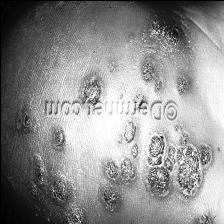Toxin: (146, 121, 215, 202), (100, 118, 137, 208), (50, 124, 68, 150), (175, 74, 187, 96)
